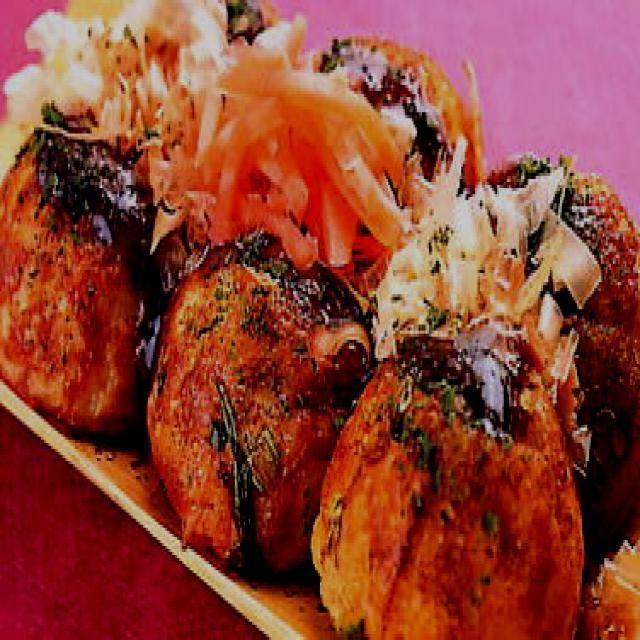takoyaki: (0, 0, 639, 638)
